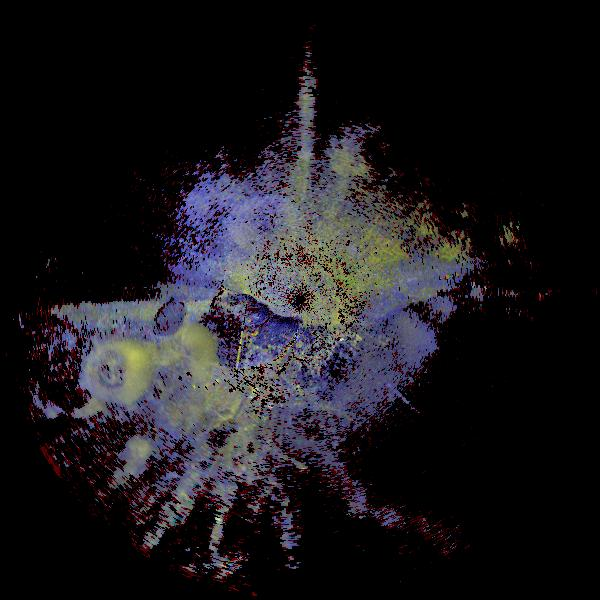roost: (128, 317, 221, 410), (224, 187, 311, 274), (77, 335, 155, 413), (35, 354, 110, 429), (103, 424, 151, 472)
